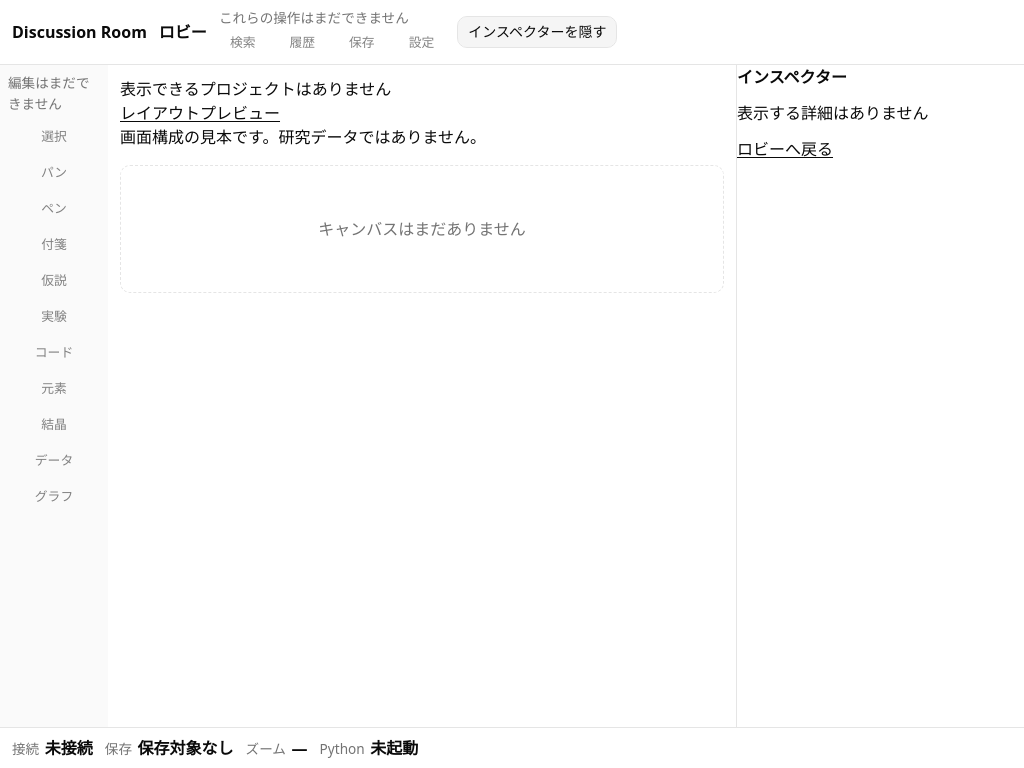
Scenario: lobby has no projects and a labeled layout preview
This screenshot has width=1024, height=768.
Expected: the heading "ロビー" is shown, [159,22,207,43]
Expected: the text "表示できるプロジェクトはありません" is shown, [120,78,391,100]
Click the link "レイアウトプレビュー" at (200, 113), box [120,102,280,124]
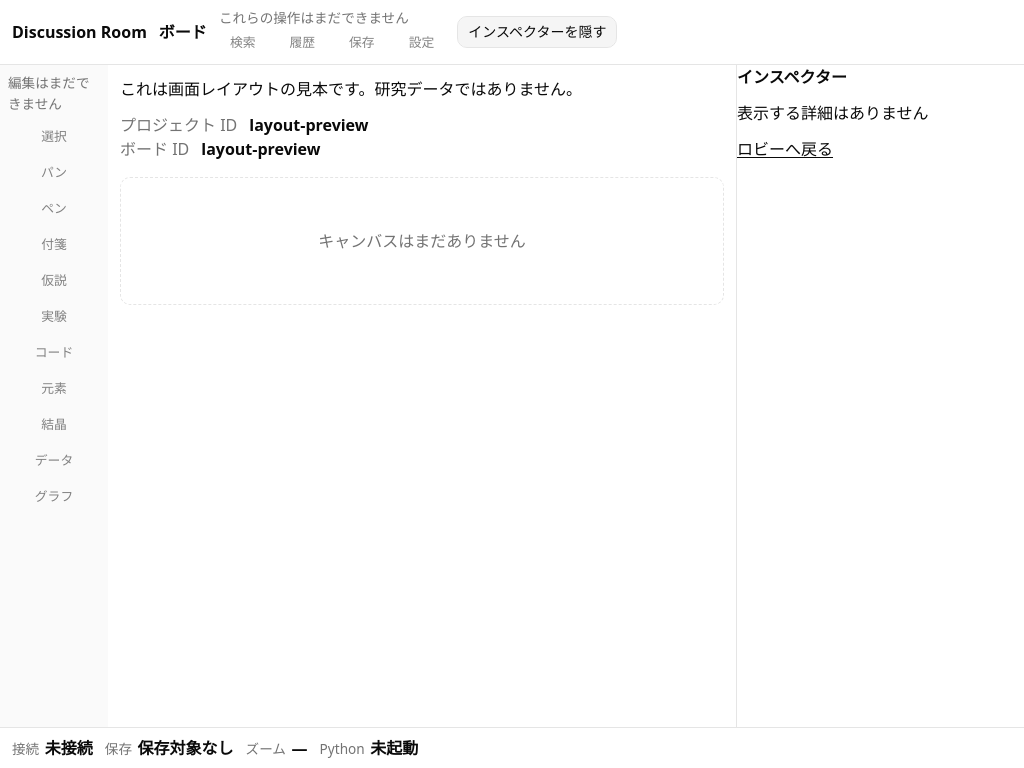
Result: the heading "ボード" is shown at [159,22,207,43]
Result: the text "これは画面レイアウトの見本です。研究データではありません。" is shown at [120,78,582,100]
Result: the text "layout-preview" is shown 2 times at [249,113,368,137]; [201,137,320,161]
